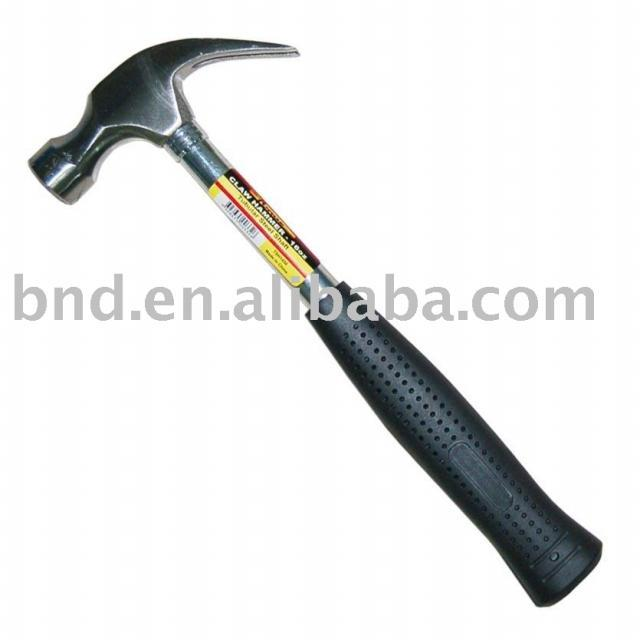hammer: (26, 29, 601, 600)
